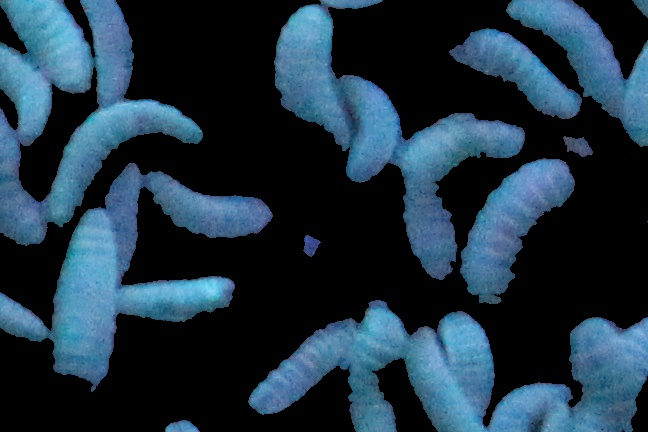larvae: (41, 102, 204, 226), (470, 157, 573, 324), (41, 207, 120, 409), (503, 3, 622, 106), (450, 26, 582, 116), (275, 4, 351, 157), (246, 316, 358, 414), (146, 172, 277, 240), (559, 313, 637, 420), (347, 303, 411, 432), (1, 1, 92, 91), (75, 1, 146, 112), (405, 327, 475, 432), (397, 110, 520, 169), (339, 72, 401, 185), (439, 306, 494, 414), (118, 274, 239, 322), (1, 102, 42, 243), (401, 185, 460, 279), (1, 46, 54, 146), (103, 167, 146, 272), (499, 367, 566, 432), (1, 264, 51, 348)
